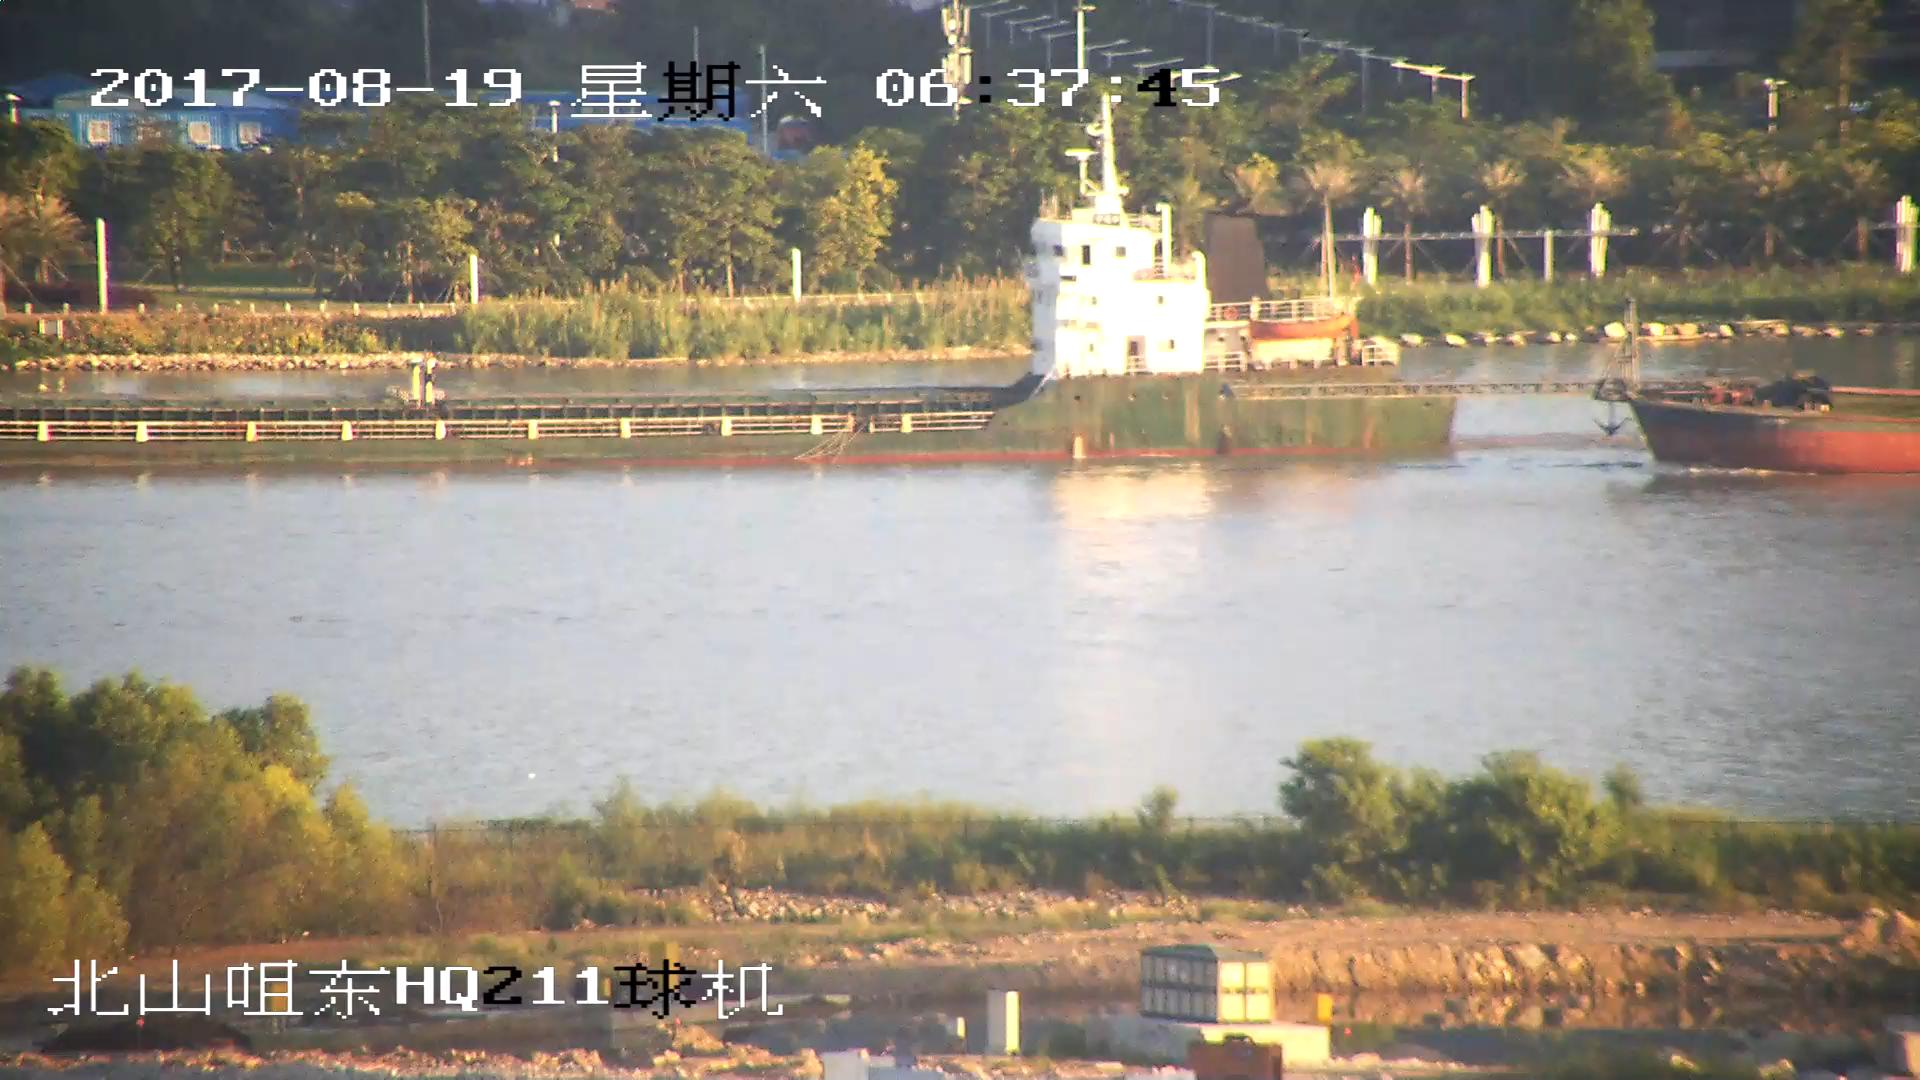bulk cargo carrier: (1475, 339, 1920, 474)
general cargo ship: (1, 140, 1457, 462)
